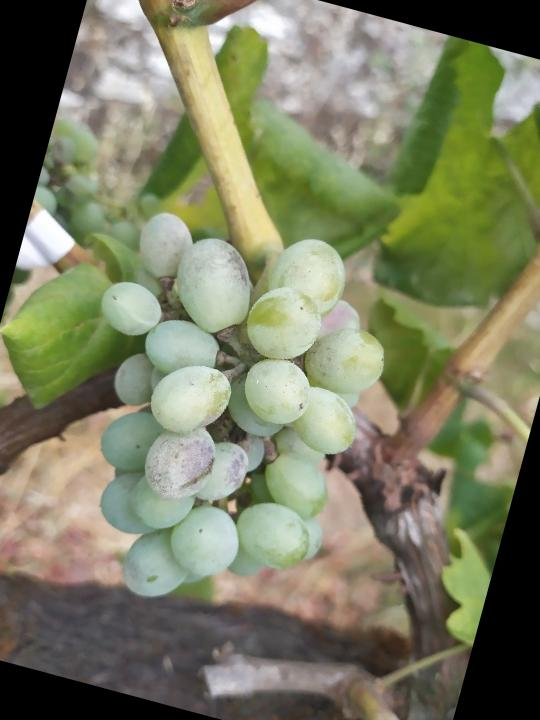grape: (26, 184, 418, 647)
